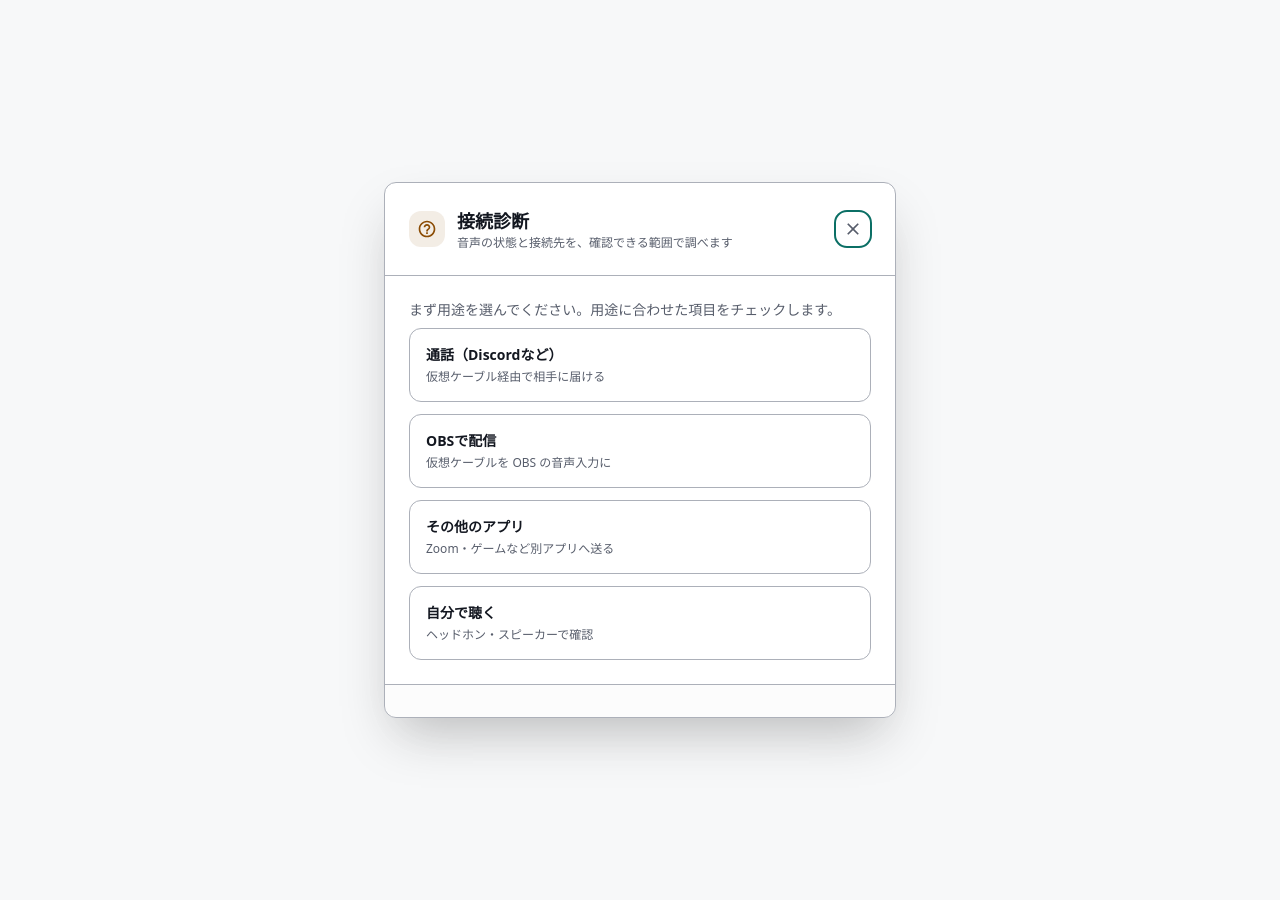
Scenario: CABLE-B Inputの到達確認は、同じ系統・ホストのOutputだけを検査する
Click the button "OBSで配信 仮想ケーブルを OBS の音声入力に" at (461, 440), box x1=409 y1=414 x2=871 y2=488
Wait 6100 ms
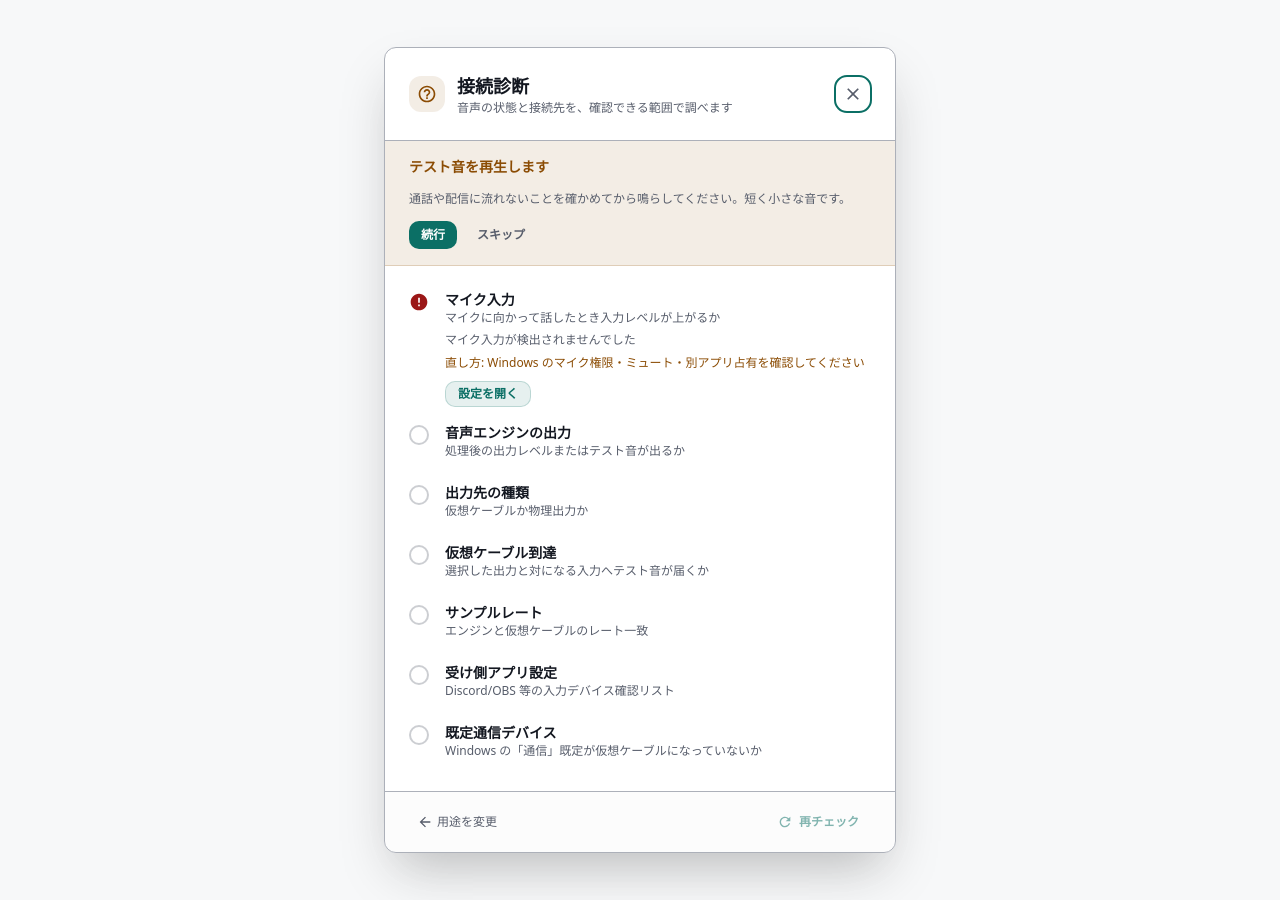
Click the button "スキップ" at (501, 235), box x1=465 y1=221 x2=537 y2=249
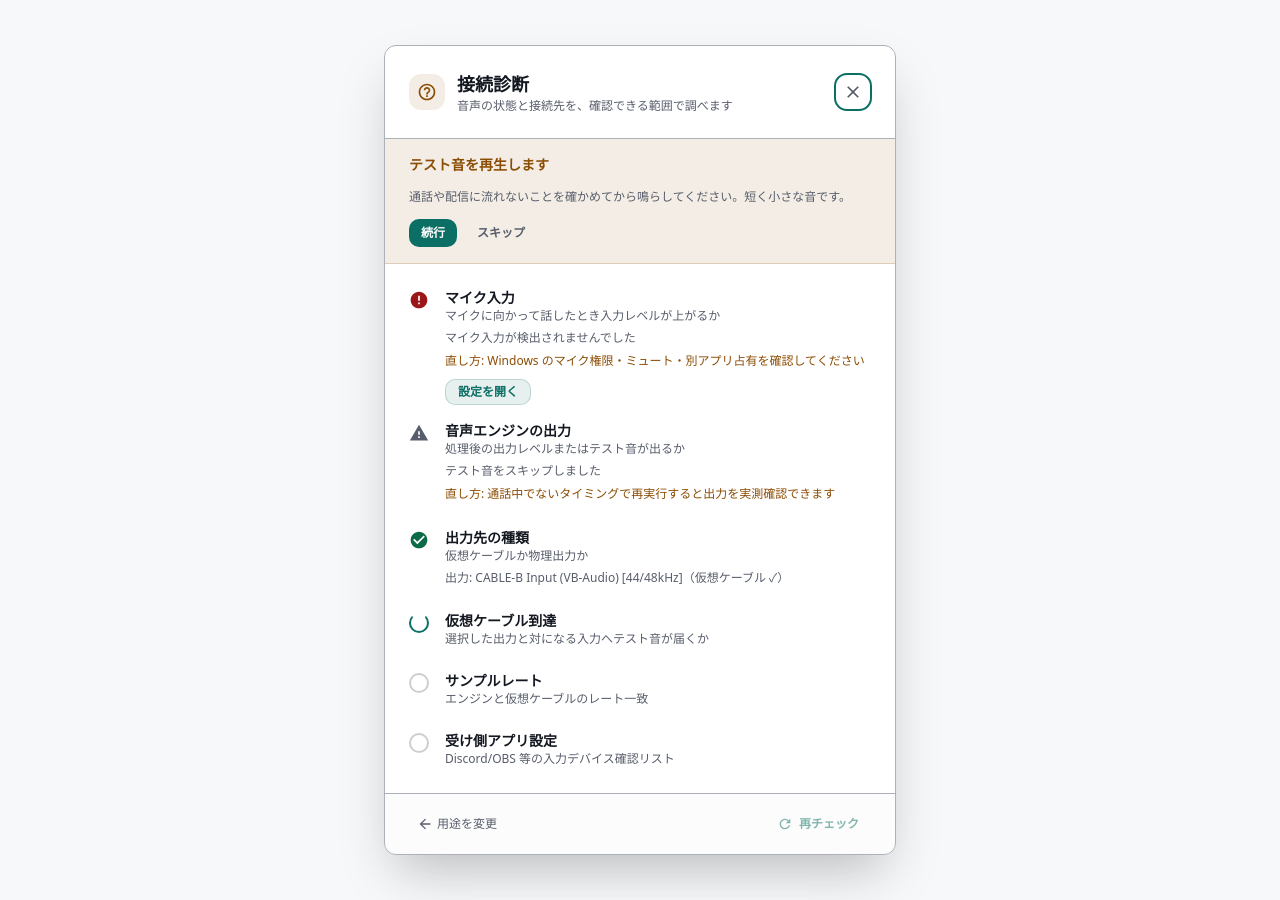
Click the button "続行" at (433, 232), box x1=409 y1=218 x2=457 y2=246
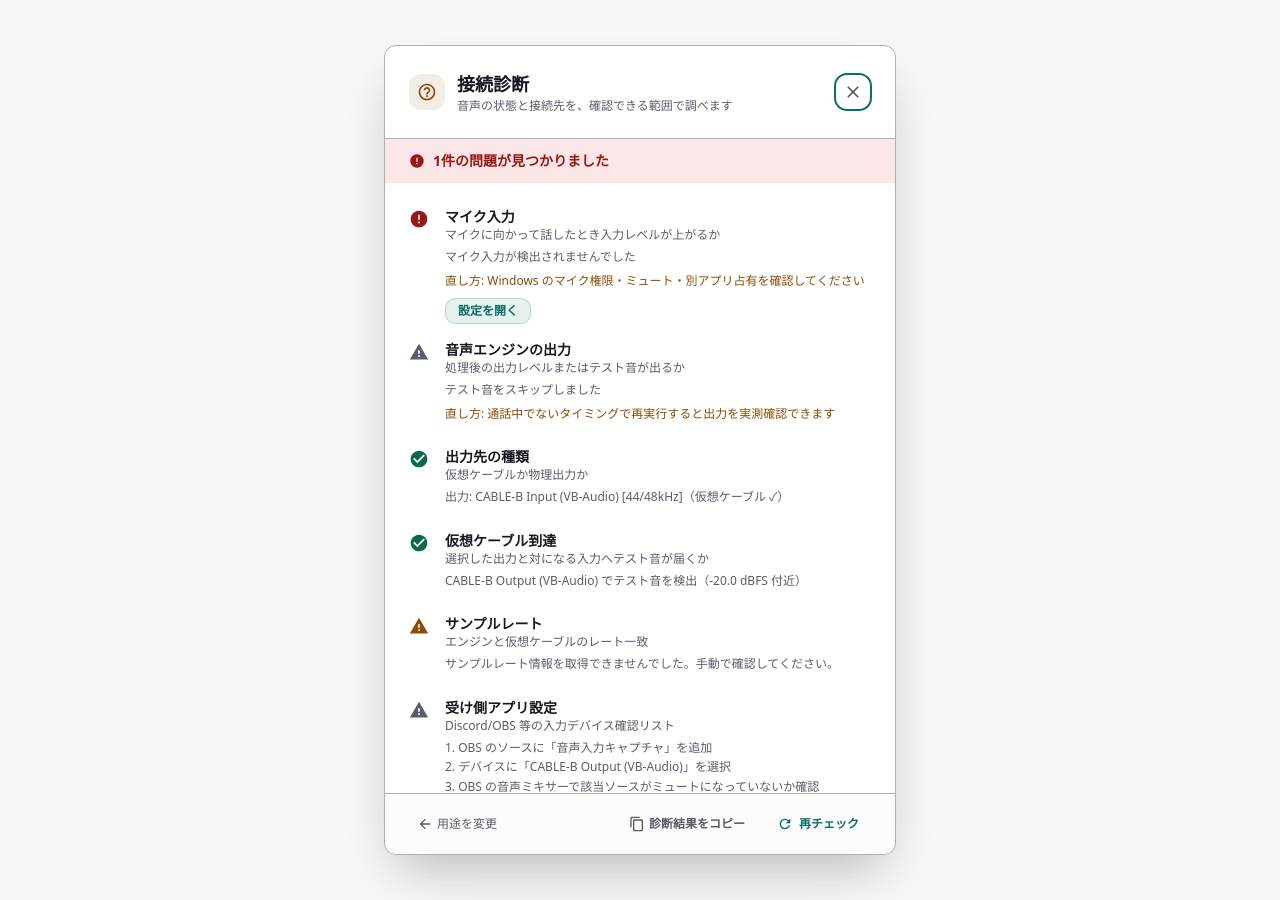
Expected: the text "OBS のソースに" shows "CABLE-B Output", x1=445 y1=738 x2=829 y2=793
